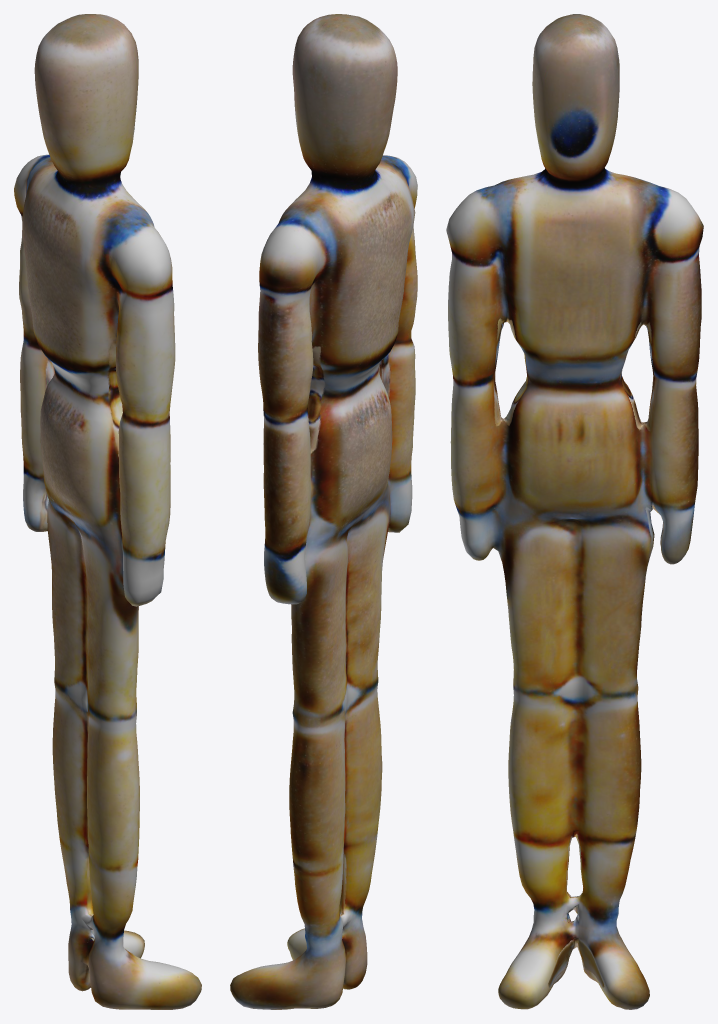
Rendered from 7bb2e2f2c01f_Practice_dummy_min.fbx.
The picture shows the model from 3 angles, left to right: view 1: azimuth 30°, elevation 25°; view 2: azimuth 150°, elevation 25°; view 3: azimuth 270°, elevation 25°; orthographic projection. The views are drawn at different scales.
Visible parts, largest first — view 1: mesh; view 2: mesh; view 3: mesh.
Boxes of the visible parts, bbox=[...] form: mesh: bbox=[14, 14, 201, 1009]; mesh: bbox=[230, 14, 417, 1009]; mesh: bbox=[446, 14, 703, 1009].
Bounding box in the file's own units: 14.01 × 99.98 × 24.34.
